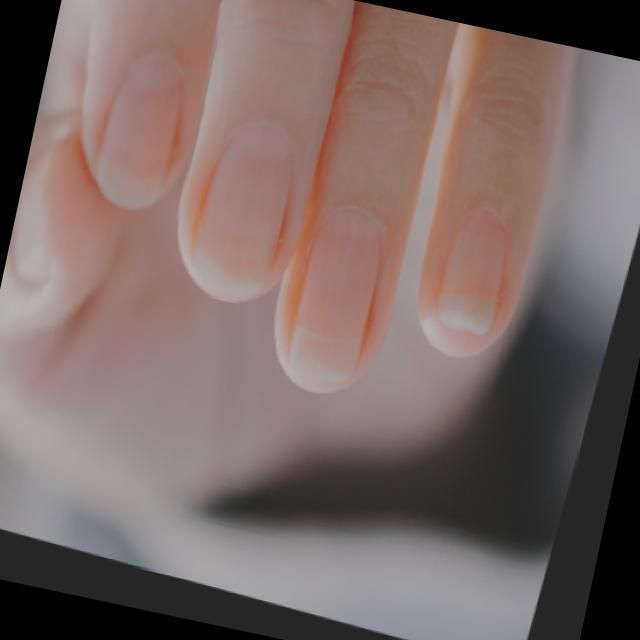Nail: (192, 121, 294, 291), (288, 210, 382, 380), (92, 52, 188, 210), (13, 121, 70, 289), (438, 212, 505, 335)
